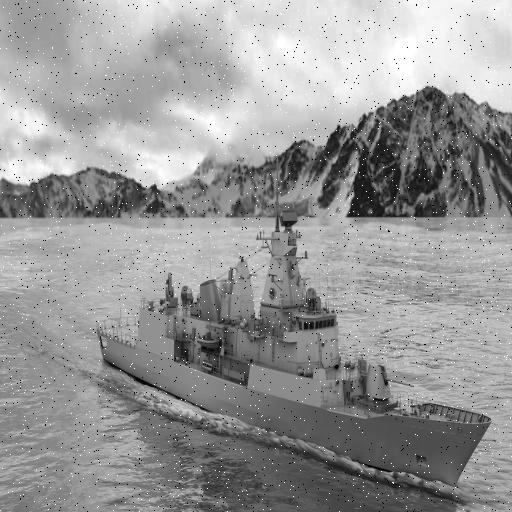Fragata: (1, 145, 336, 499)
